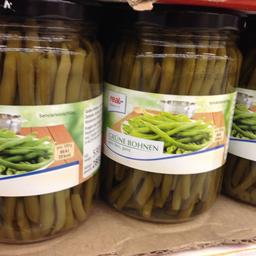beans: (108, 0, 244, 232), (0, 1, 102, 246)
